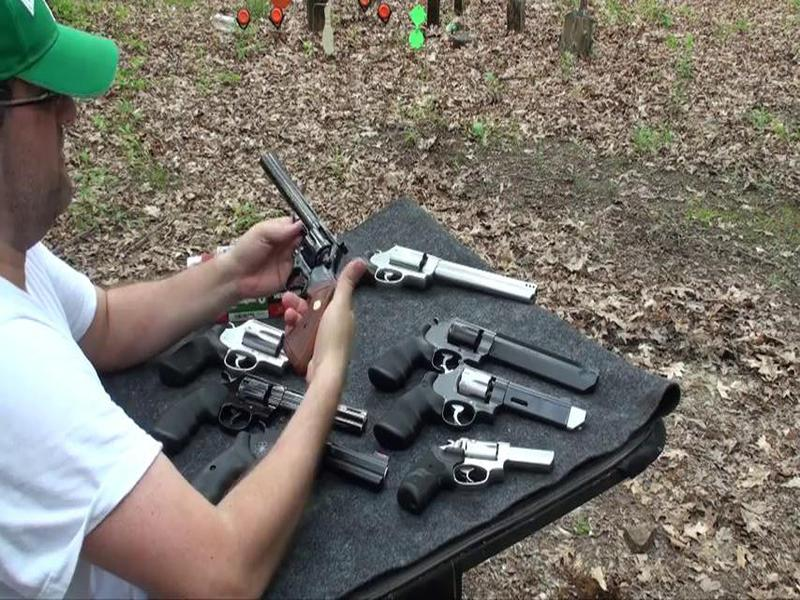Revolver: (248, 145, 363, 382)
